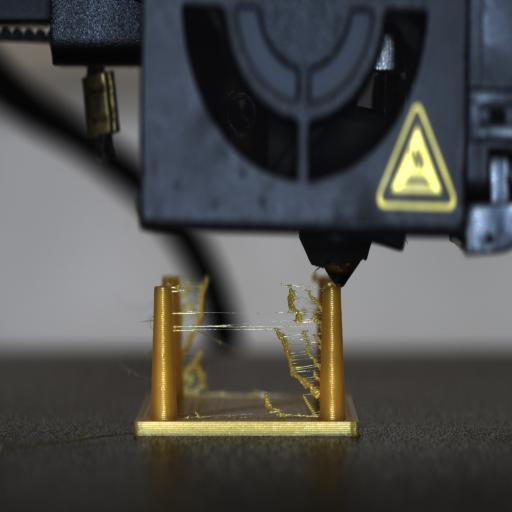stringing: (160, 280, 326, 422)
